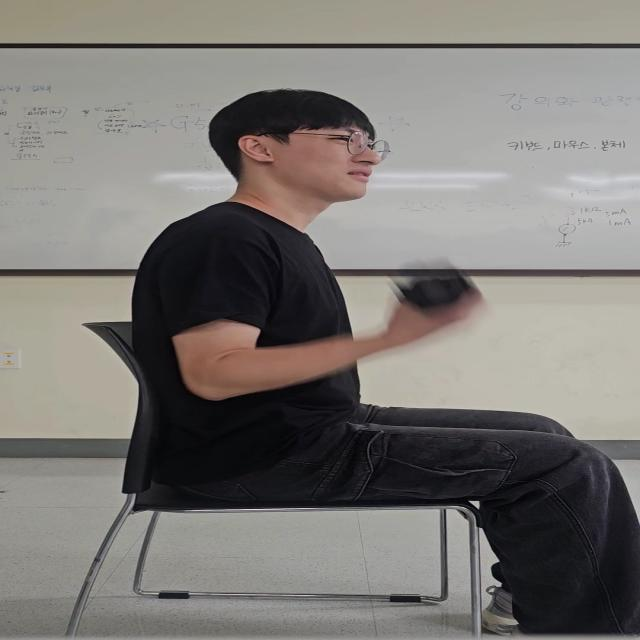curl: (148, 227, 486, 397)
